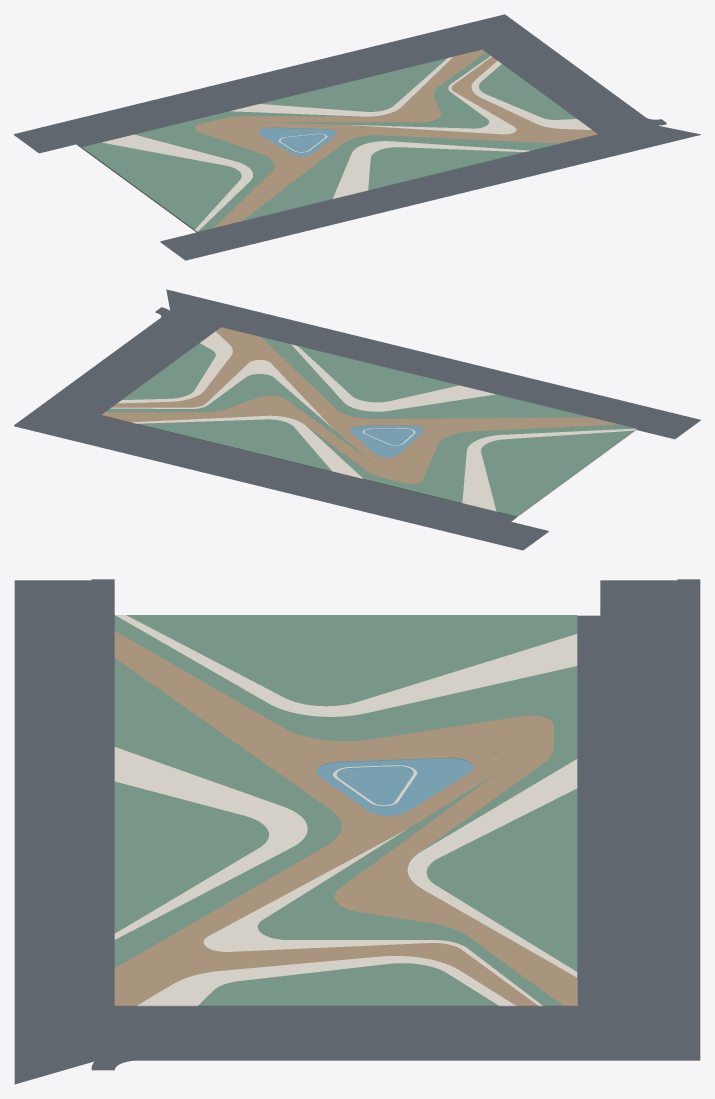
Rendered from al-masoudi-park.glb.
3 renders of one model, top to bottom at view 1: azimuth 30°, elevation 25°; view 2: azimuth 150°, elevation 25°; view 3: azimuth 270°, elevation 25°, orthographic. The views are drawn at different scales.
Parts seen in each view (by area): view 1: ground, green, wood, stone, water; view 2: ground, green, wood, stone, water; view 3: ground, green, wood, stone, water.
Part boxes in pixels (left/top/right/bottom): ground: left=14, top=14, right=700, bottom=260; green: left=82, top=52, right=576, bottom=231; wood: left=195, top=49, right=597, bottom=227; stone: left=82, top=56, right=591, bottom=232; water: left=258, top=127, right=336, bottom=156; ground: left=14, top=289, right=700, bottom=550; green: left=105, top=337, right=635, bottom=516; wood: left=101, top=327, right=619, bottom=483; stone: left=110, top=331, right=636, bottom=517; water: left=350, top=425, right=423, bottom=457; ground: left=14, top=579, right=700, bottom=1084; green: left=114, top=615, right=577, bottom=1006; wood: left=114, top=631, right=576, bottom=1006; stone: left=114, top=615, right=577, bottom=1006; water: left=316, top=757, right=473, bottom=815.
Bounding box in the file's own units: 129 × 0.3336 × 74.16.
